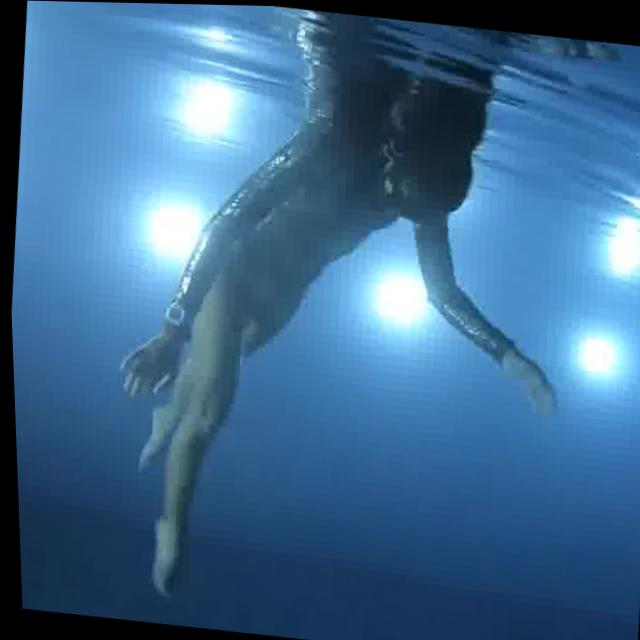human: (22, 0, 639, 640)
